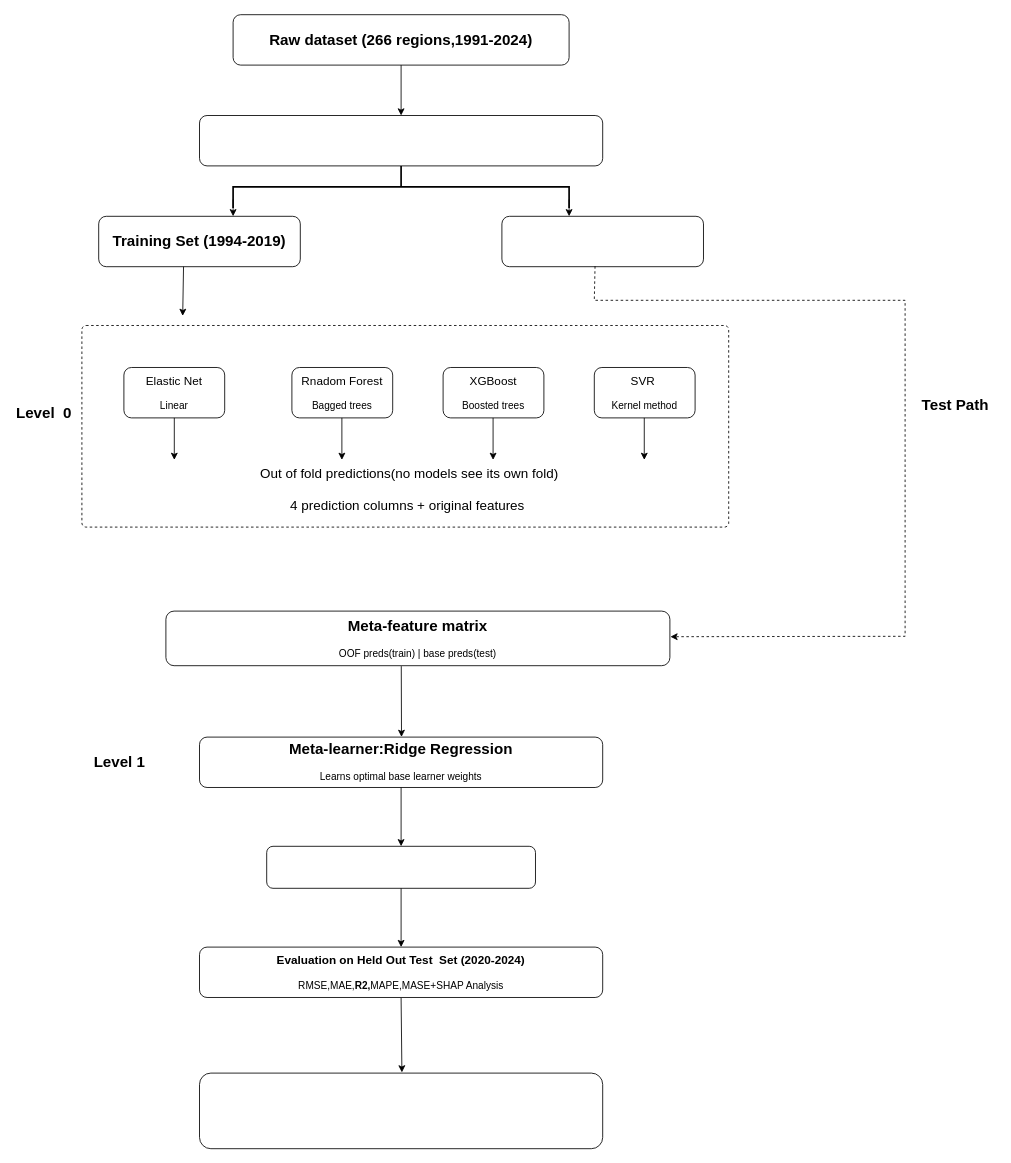
Image size: 1011x1163. Some labels were removed from this diagram. Here are the shapes that lost their labels. From the top down, the box of each, then its label:
(199, 115, 603, 166): Feature Engineering 3 lags + rolling mean/std +YoY Change
(501, 215, 704, 267): Test Set (2020-2024)
(266, 845, 536, 888): Stacked Ensemble Prediction
(199, 1072, 603, 1149): Model Deployment
